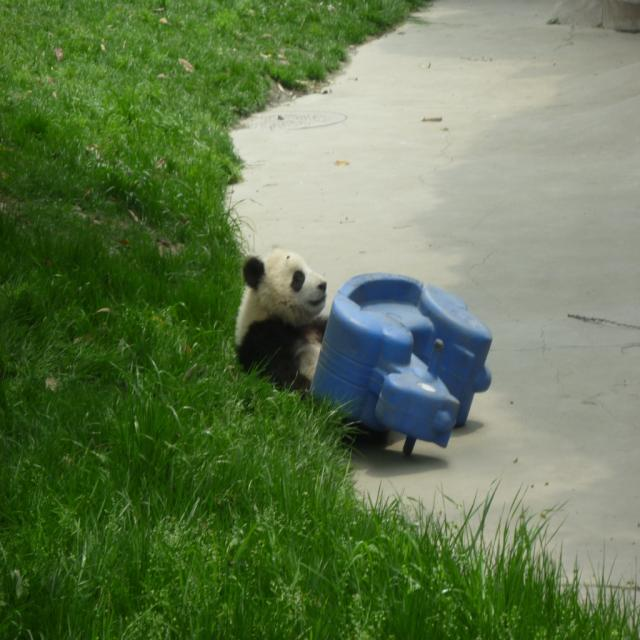panda: (226, 236, 330, 404)
